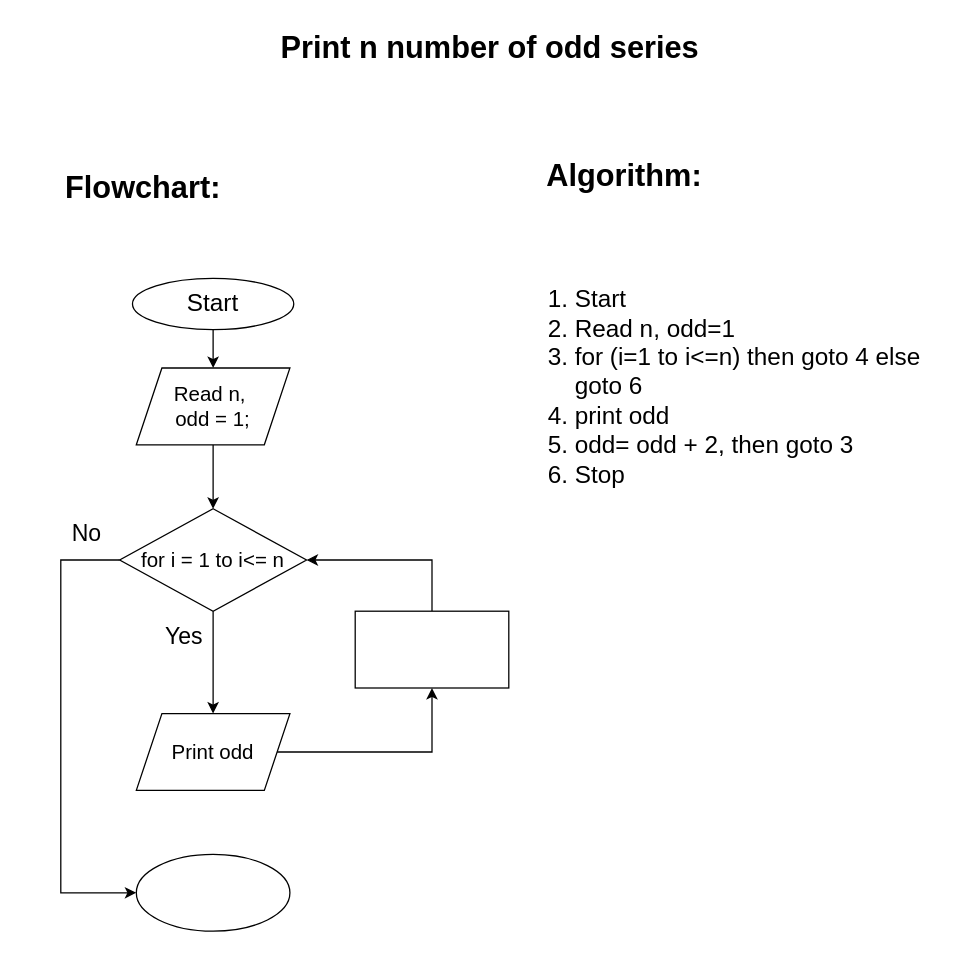
Image size: 978x954. Some labels were removed from this diagram. Here are the shapes that lost their labels. From the top down, the box of each, then its label:
(354, 610, 509, 688): odd = odd +2
(135, 853, 290, 931): End
